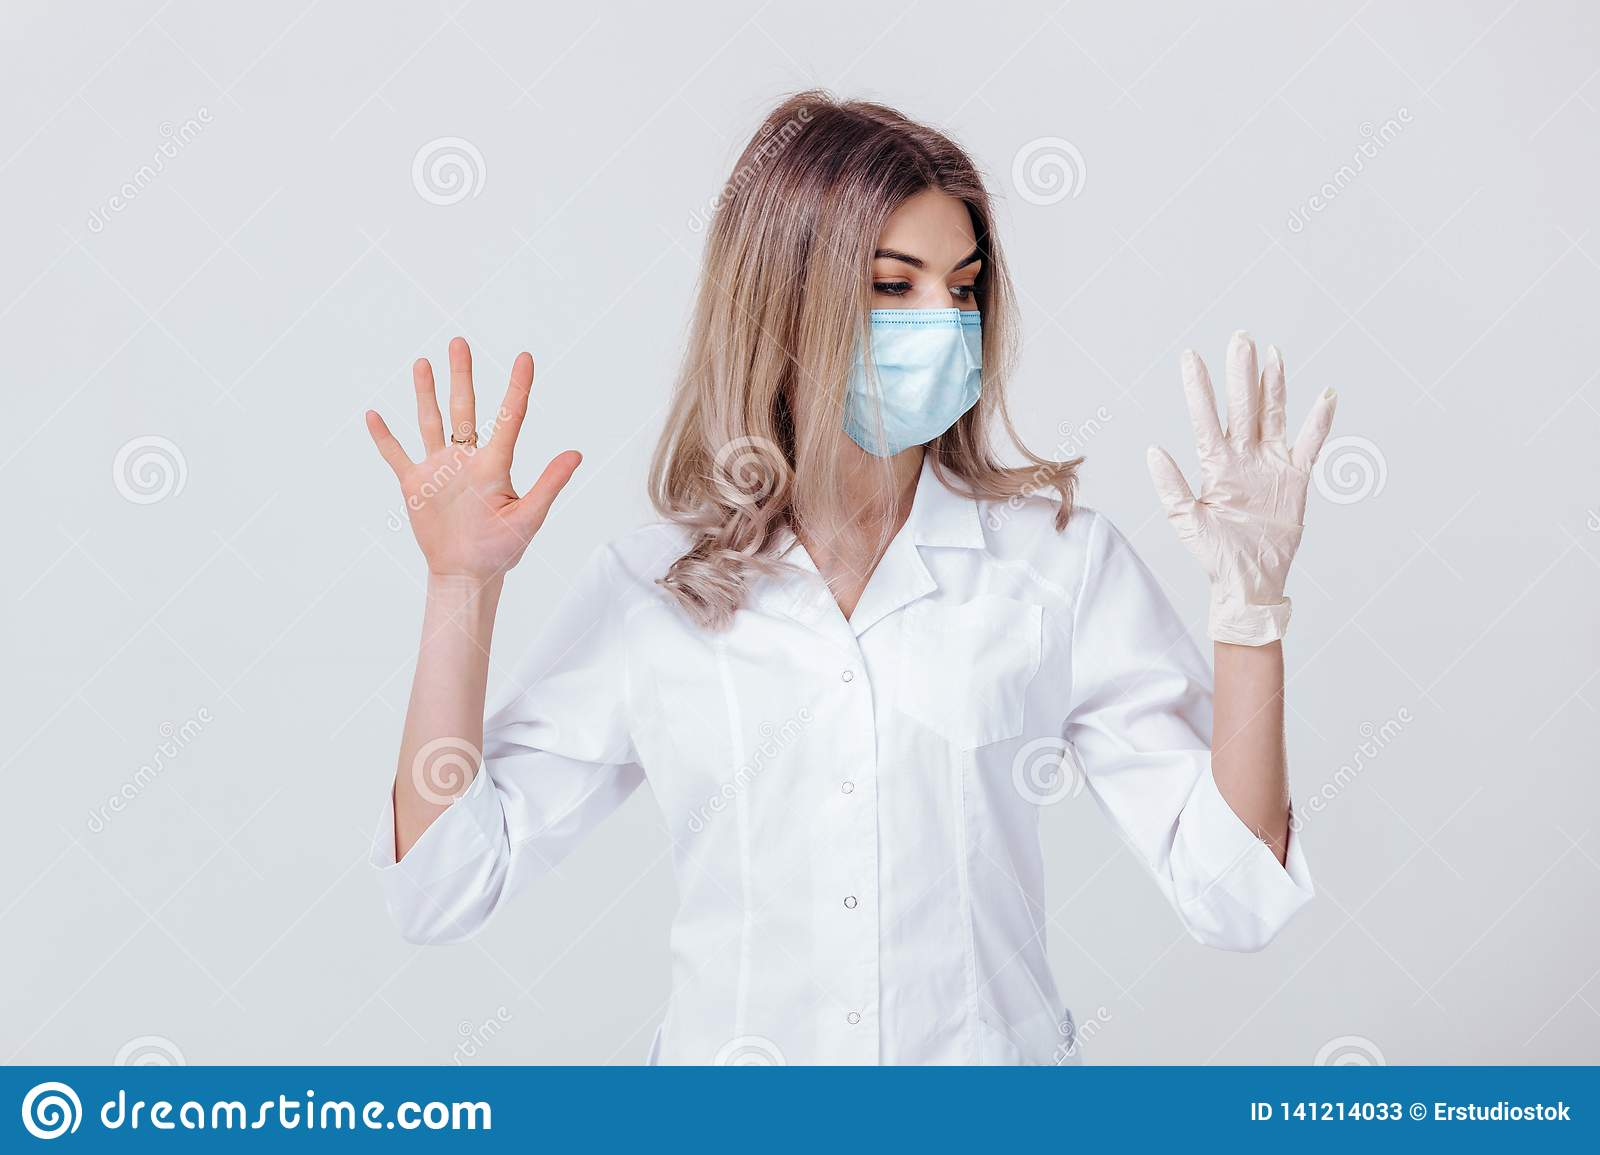mask: (839, 308, 989, 460)
